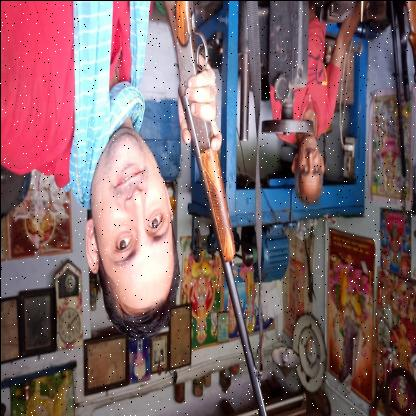rifle: (160, 0, 269, 414)
